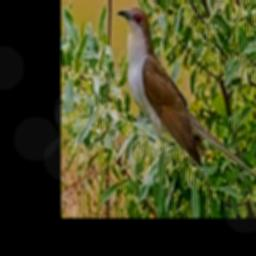Cuckoo: (116, 7, 256, 183)
